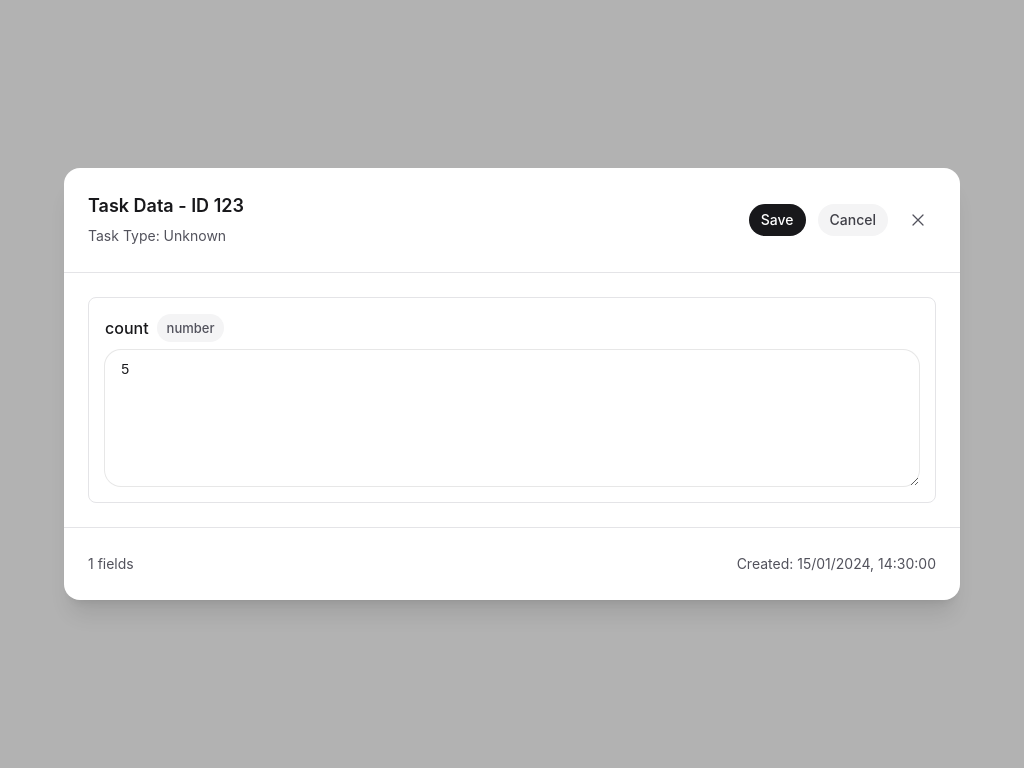
Test case: TaskDataViewModal › should block save and show an error on invalid JSON for a non-string field
The image size is (1024, 768).
Replace the text in the text box with "not valid json" at (512, 418), box x1=105 y1=350 x2=919 y2=486
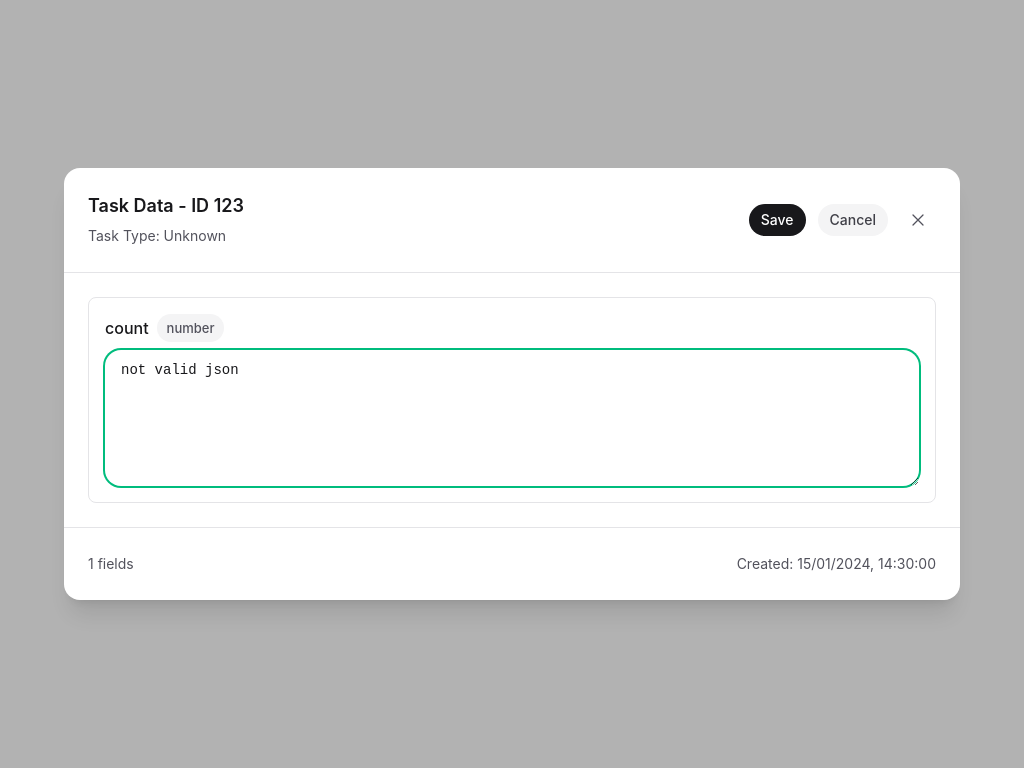
Click the button "Save" at (777, 220), box x1=749 y1=204 x2=806 y2=236
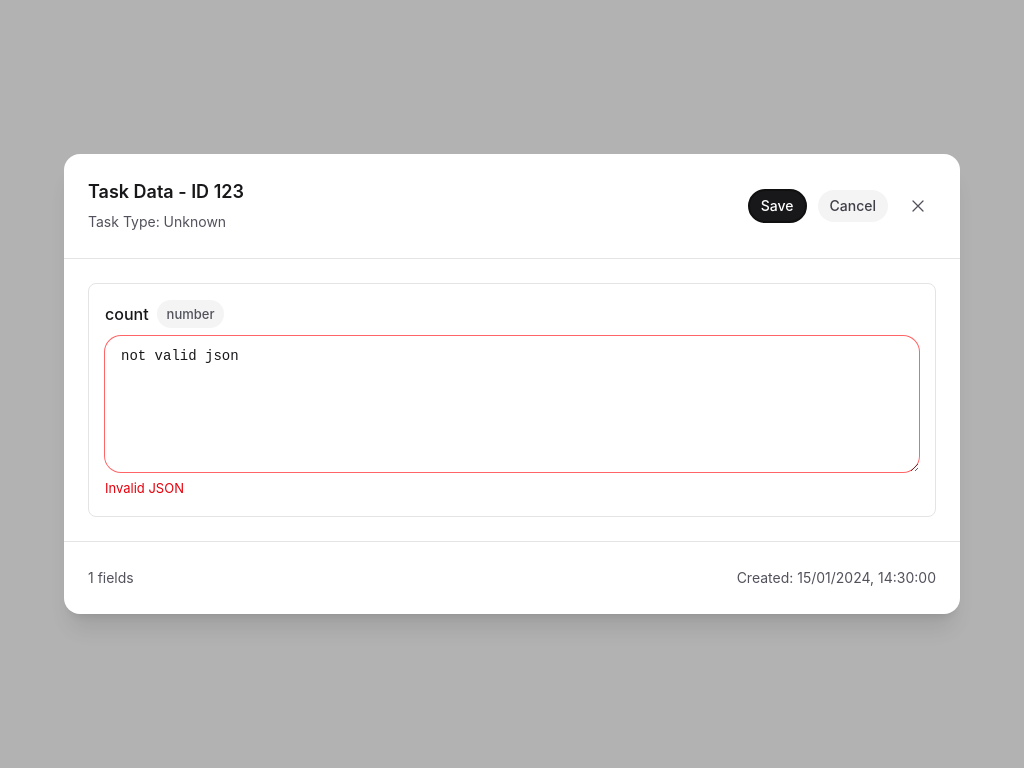
Now the text "Invalid JSON" is shown, box x1=105 y1=480 x2=184 y2=496
